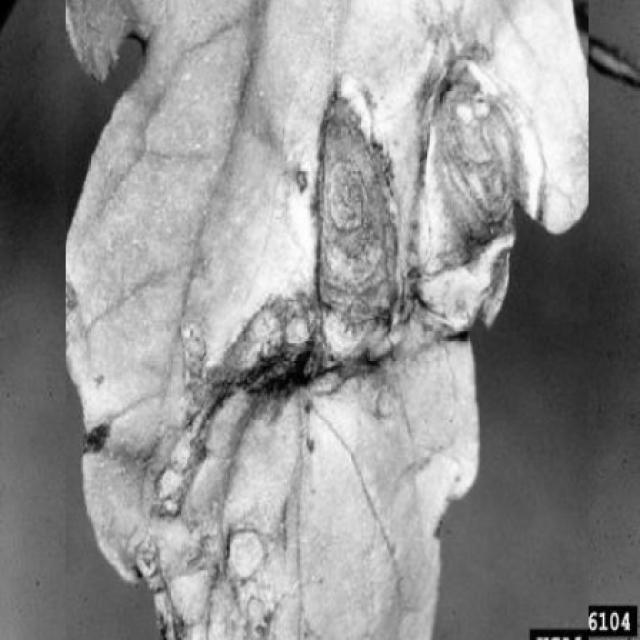Early Blight: (66, 0, 590, 640)
